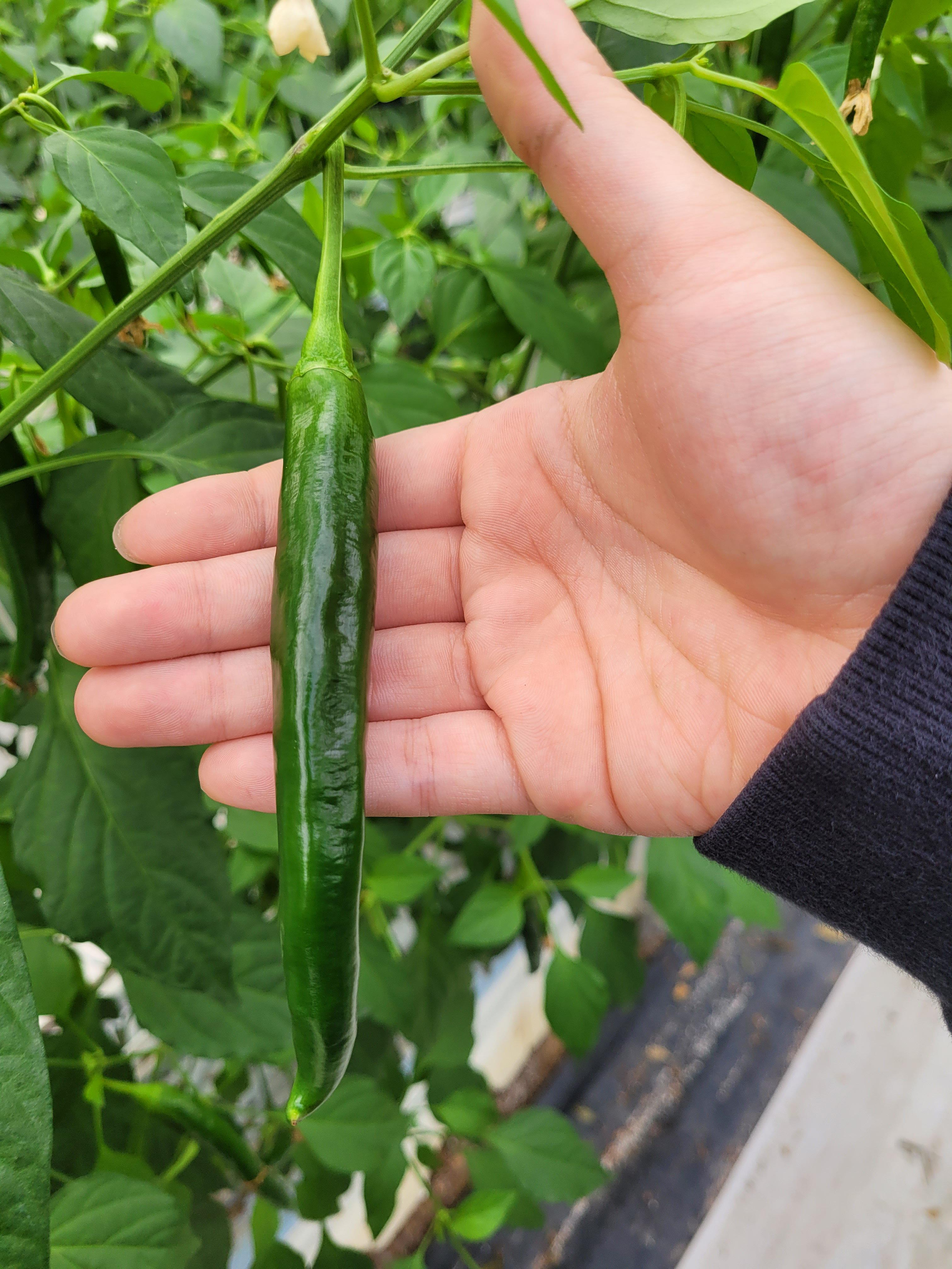Buah Cabai Sehat: (267, 331, 380, 1125)
